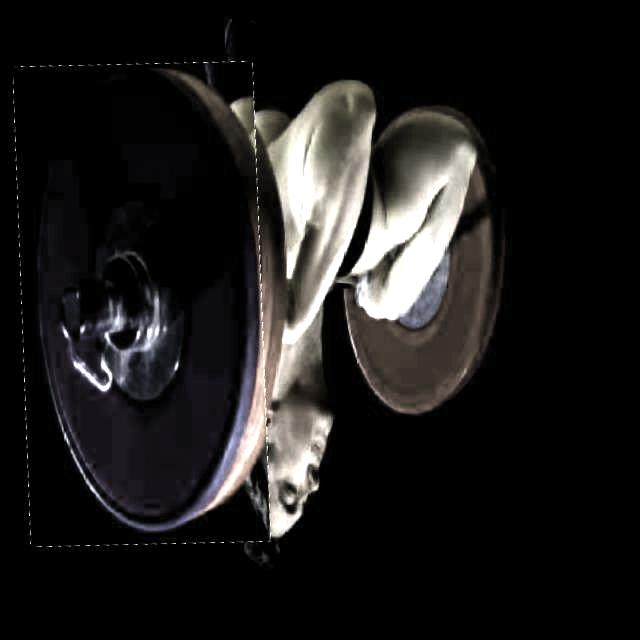barbell: (3, 50, 291, 555)
